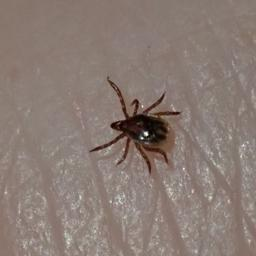Ixodes scapularis: (91, 77, 180, 173)
